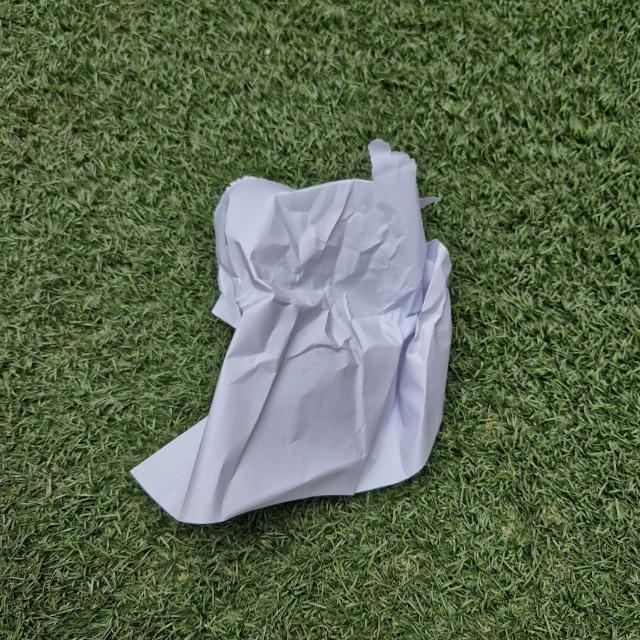paper: (140, 143, 462, 533)
